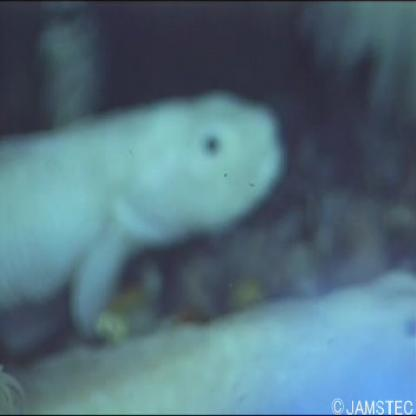Bio: (1, 76, 284, 364)
